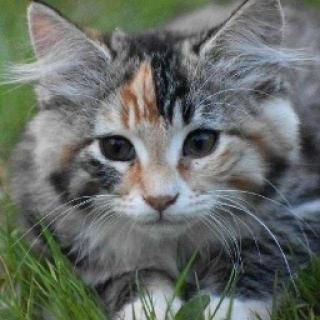cat: (23, 0, 294, 248)
nose: (137, 176, 184, 213)
